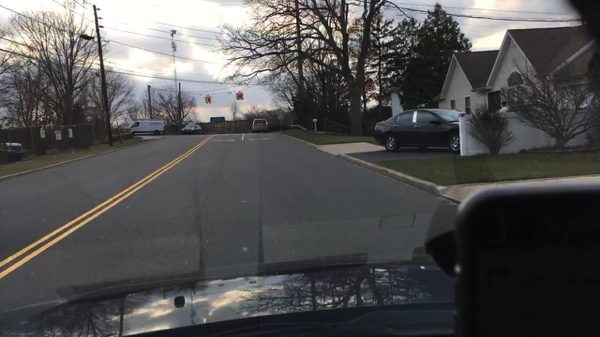car: (373, 108, 461, 152), (492, 104, 553, 113), (1, 140, 23, 162), (251, 118, 268, 133), (180, 123, 200, 134), (268, 123, 290, 132)
traffic light: (206, 96, 210, 104), (239, 93, 242, 101), (235, 93, 238, 100), (211, 96, 213, 104), (204, 96, 206, 103), (243, 93, 244, 101)
traffic sign: (210, 117, 225, 124), (277, 108, 283, 120), (220, 123, 226, 128)
truck: (128, 121, 164, 135)
